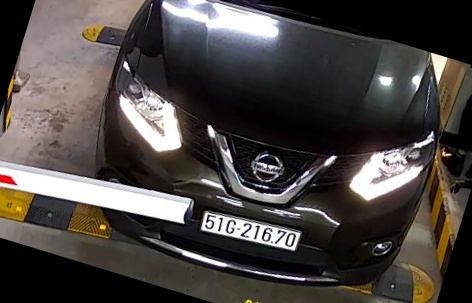plate: (196, 203, 300, 252)
